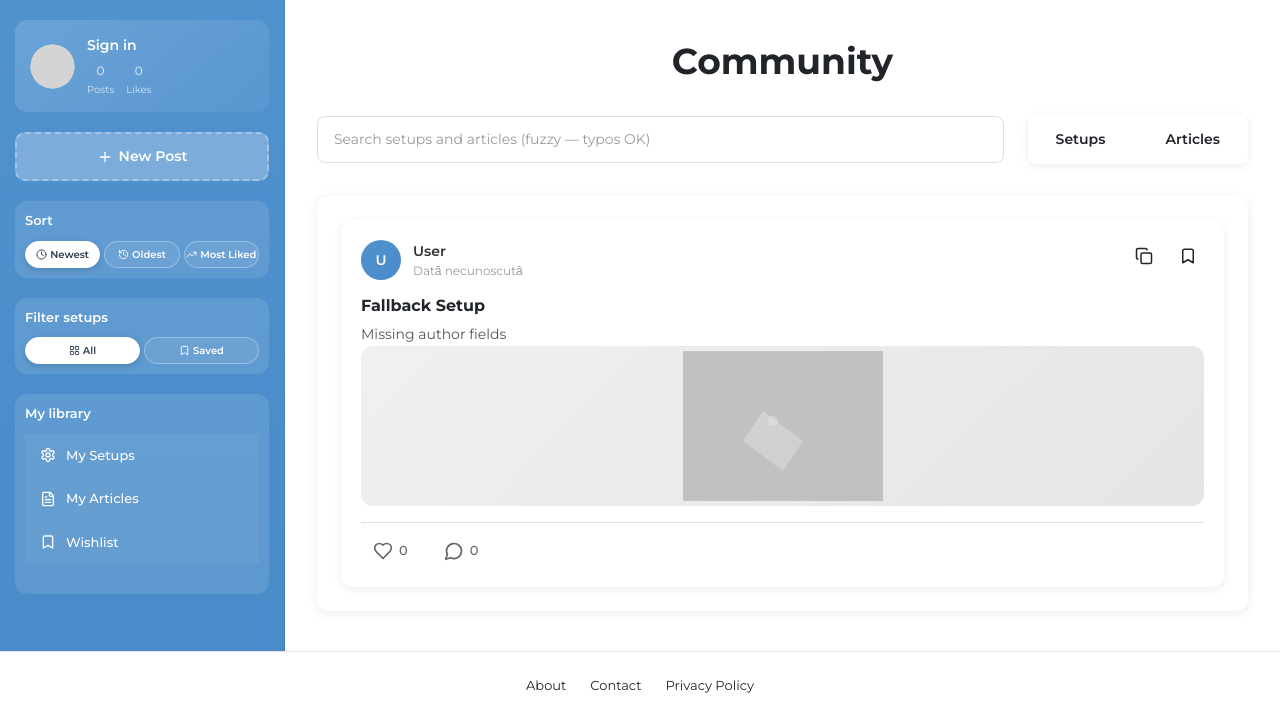
Test: CommunityPage › handles missing token, failed fetches, and fallback display values
Check: the heading "Fallback Setup" is shown, box [361,296,485,315]
Check: the text "User" is shown, box [413,242,446,260]
Click the button named "Save to wishlist".
click(1188, 256)  # box [1172,240,1204,272]
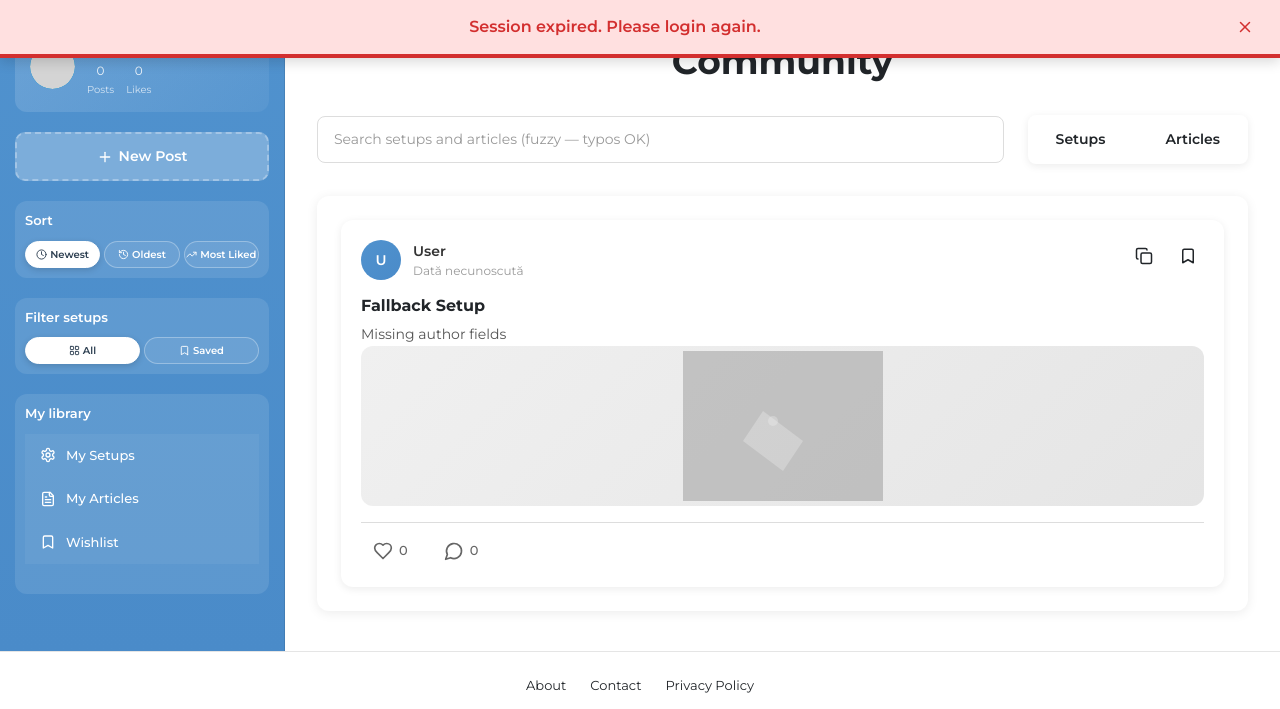
Check: the text "Session expired. Please login again." is shown, box [469,17,761,36]
Click the button "Articles".
click(1193, 140)  # box [1141,119,1244,160]
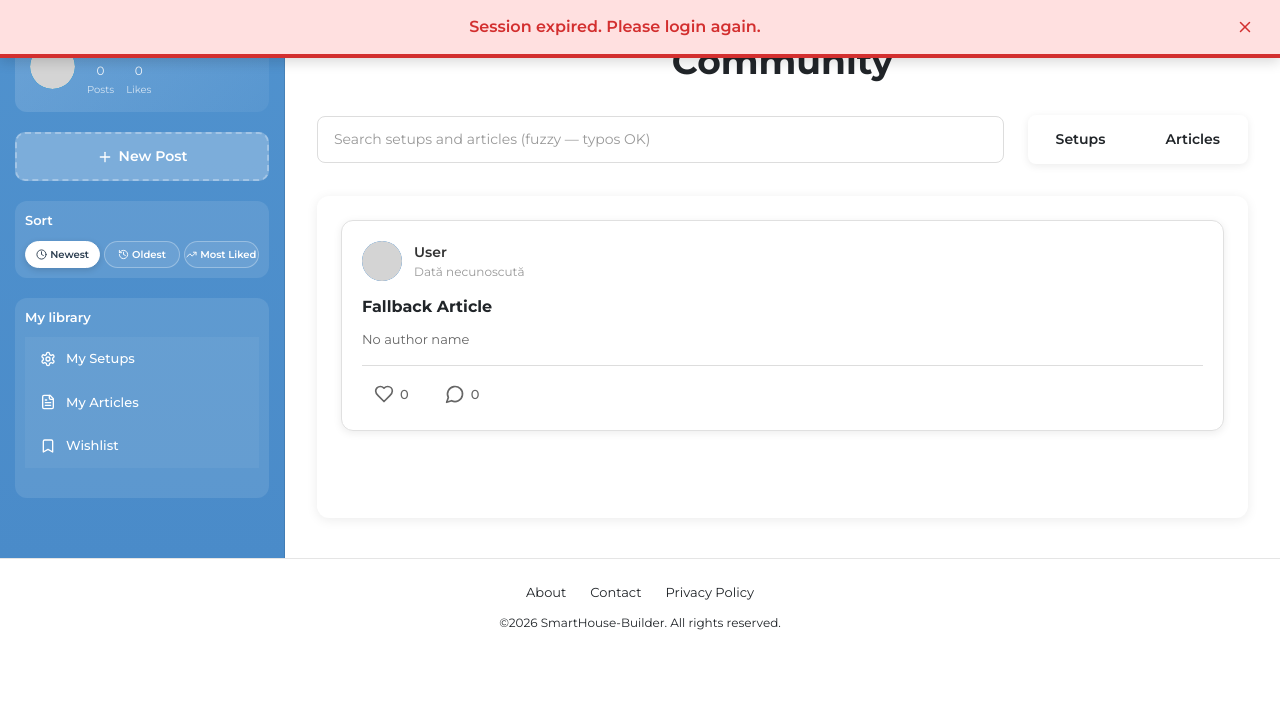
Check: the heading "Fallback Article" is shown, box [362,297,492,316]
